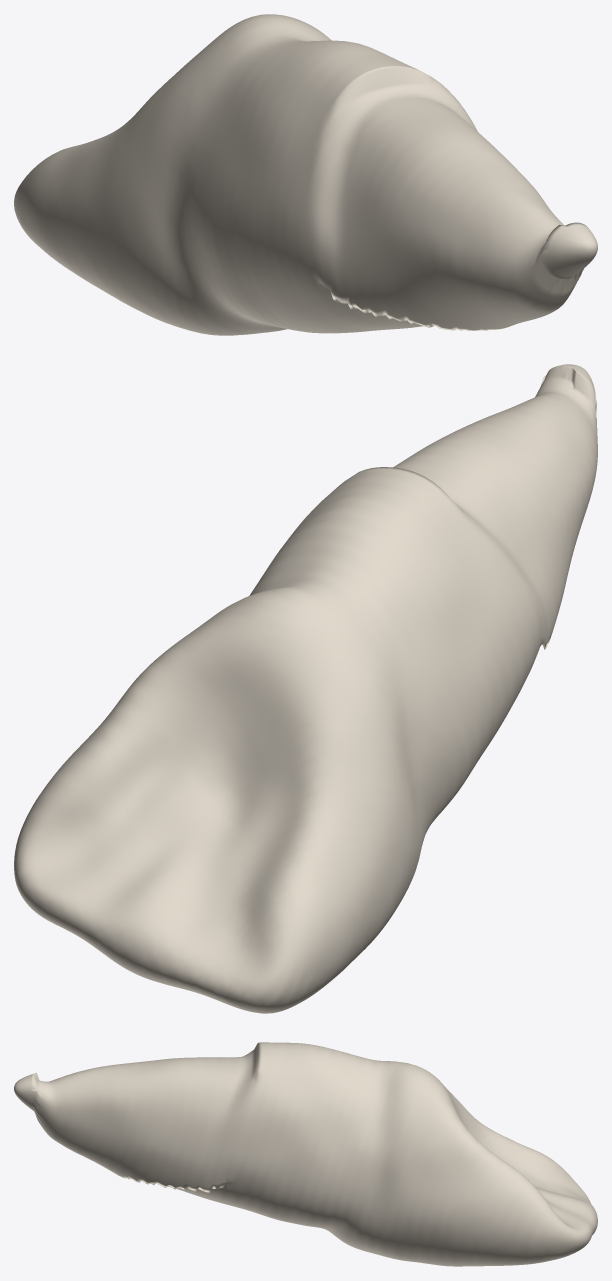
The model's file is r3-prep-veneer-21.glb.
The picture shows the model from 3 angles, top to bottom: view 1: azimuth 30°, elevation 25°; view 2: azimuth 150°, elevation 25°; view 3: azimuth 270°, elevation 25°; orthographic projection. The views are drawn at different scales.
Size of the model in its own units: 7.68 by 8.74 by 21.
